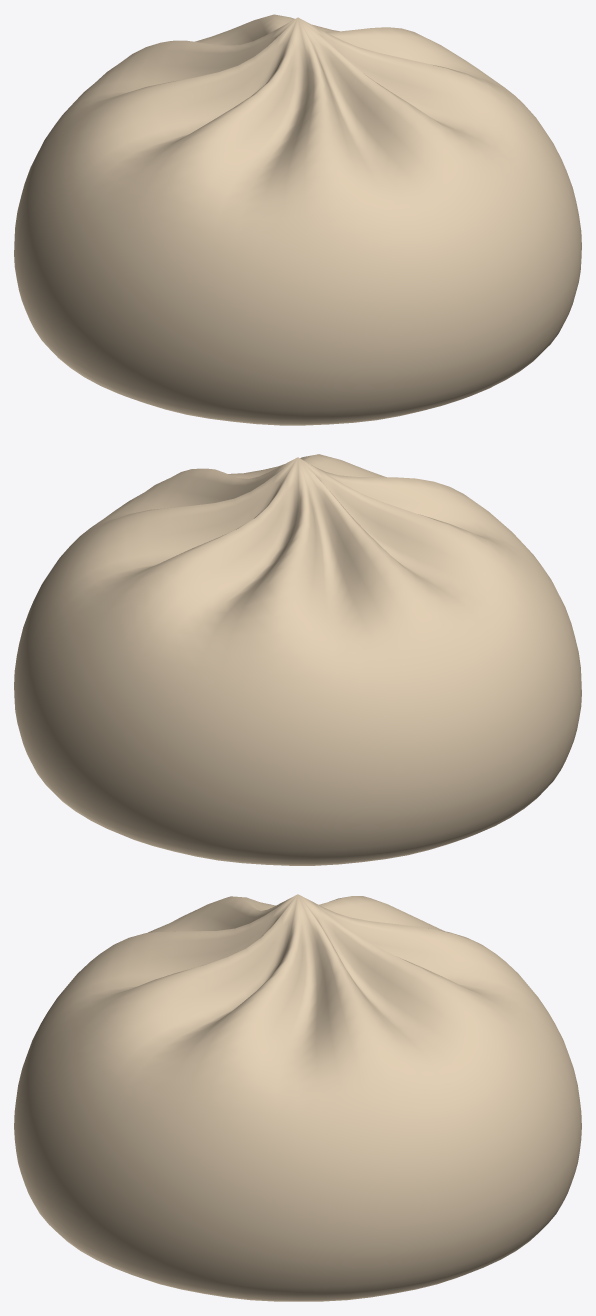
File: 小包子.fbx
3 renders of one model, top to bottom at view 1: azimuth 30°, elevation 25°; view 2: azimuth 150°, elevation 25°; view 3: azimuth 270°, elevation 25°, orthographic.
Visible parts, largest first — view 1: 球体; view 2: 球体; view 3: 球体.
Part boxes in pixels (x1,y1,x2,y2): 球体: (14, 14, 581, 425); 球体: (14, 454, 581, 865); 球体: (14, 894, 581, 1301).
Bounding box in the file's own units: 124 × 78.1 × 124.
